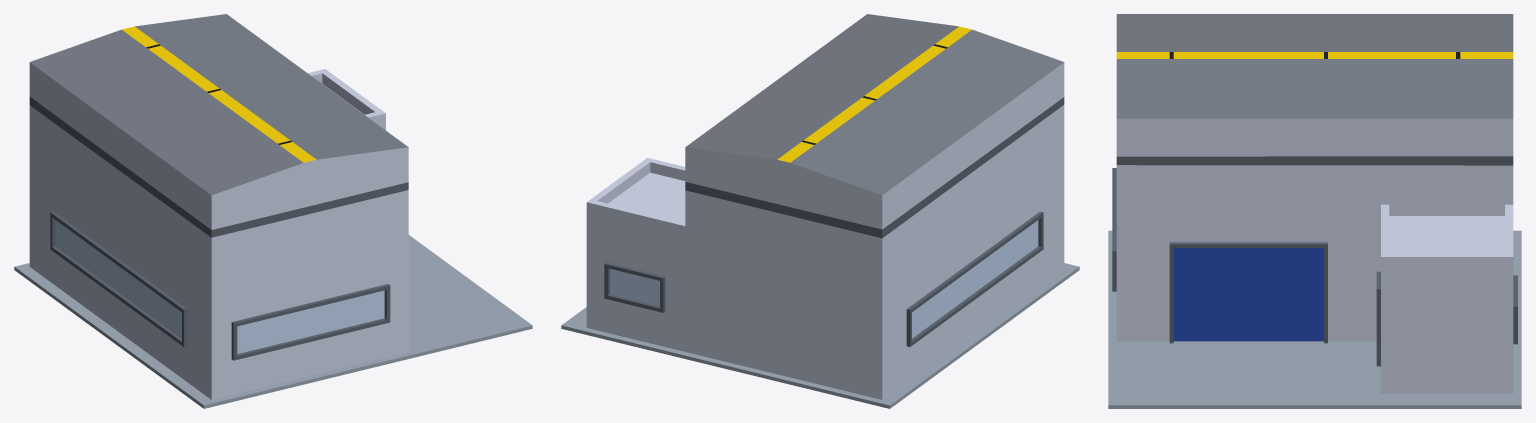
Rendered from factory1.glb.
3 views of the same model, side by side, from view 1: azimuth 30°, elevation 25°; view 2: azimuth 150°, elevation 25°; view 3: azimuth 270°, elevation 25° (orthographic). The views are drawn at different scales.
Parts seen in each view (by area): view 1: factory1; view 2: factory1; view 3: factory1.
Boxes of the visible parts, bbox=[...] form: factory1: bbox=[14, 14, 532, 408]; factory1: bbox=[561, 14, 1079, 408]; factory1: bbox=[1108, 14, 1521, 408].
Size of the model in its own units: 10 by 6.34 by 10.
